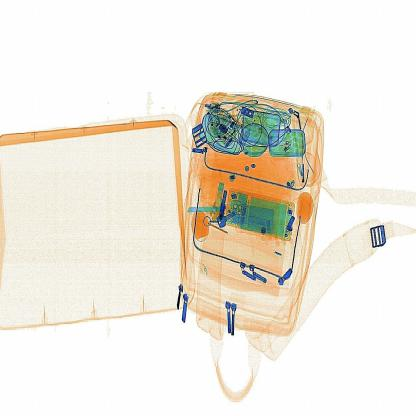pliers: (181, 197, 246, 226)
